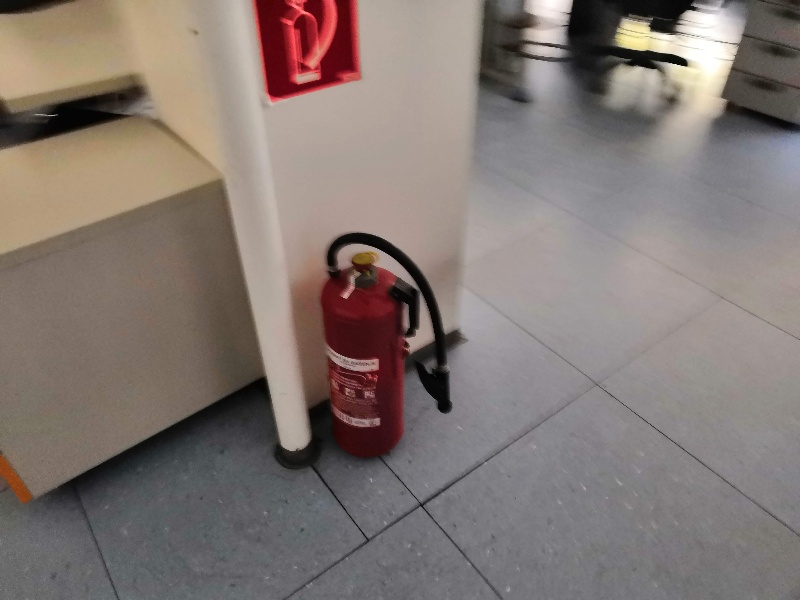vataparat: (320, 233, 453, 458)
